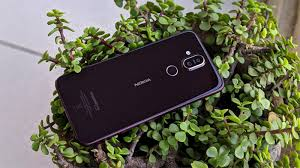nokia: (54, 26, 227, 145)
